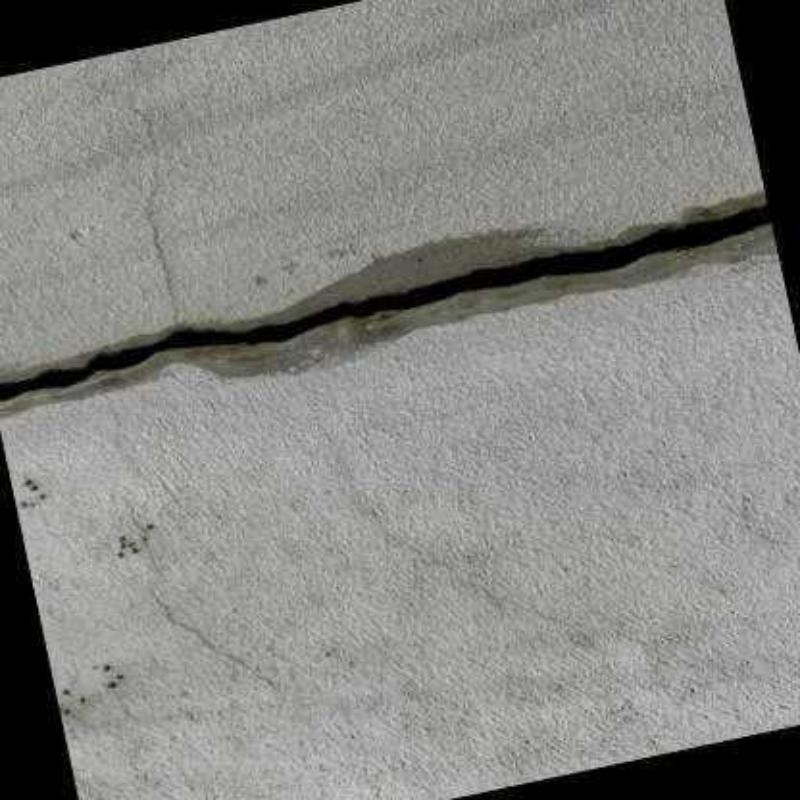pothole: (0, 199, 772, 406), (131, 108, 177, 325)
